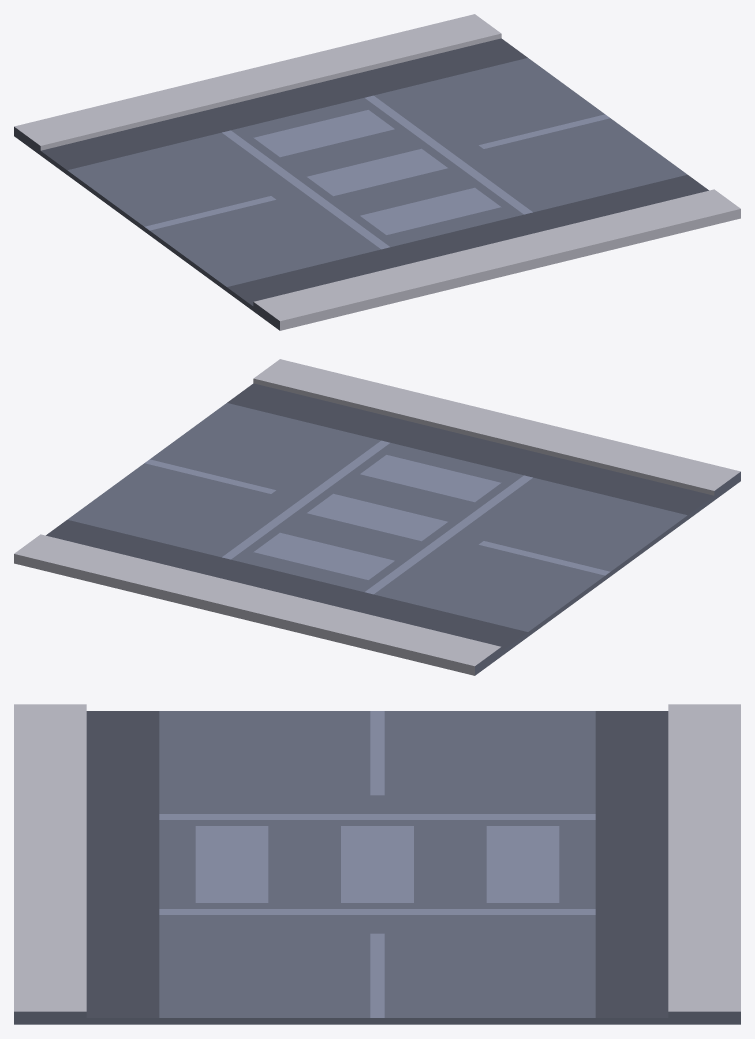
File: Road Crossing.glb
The picture shows the model from 3 angles, top to bottom: view 1: azimuth 30°, elevation 25°; view 2: azimuth 150°, elevation 25°; view 3: azimuth 270°, elevation 25°; orthographic projection. The views are drawn at different scales.
Parts seen in each view (by area): view 1: road_crossing; view 2: road_crossing; view 3: road_crossing.
Boxes of the visible parts, left/top/right/bottom form: road_crossing: left=14, top=14, right=740, bottom=330; road_crossing: left=14, top=359, right=740, bottom=675; road_crossing: left=14, top=704, right=740, bottom=1024.
Size of the model in its own units: 1 by 0.02 by 1.
